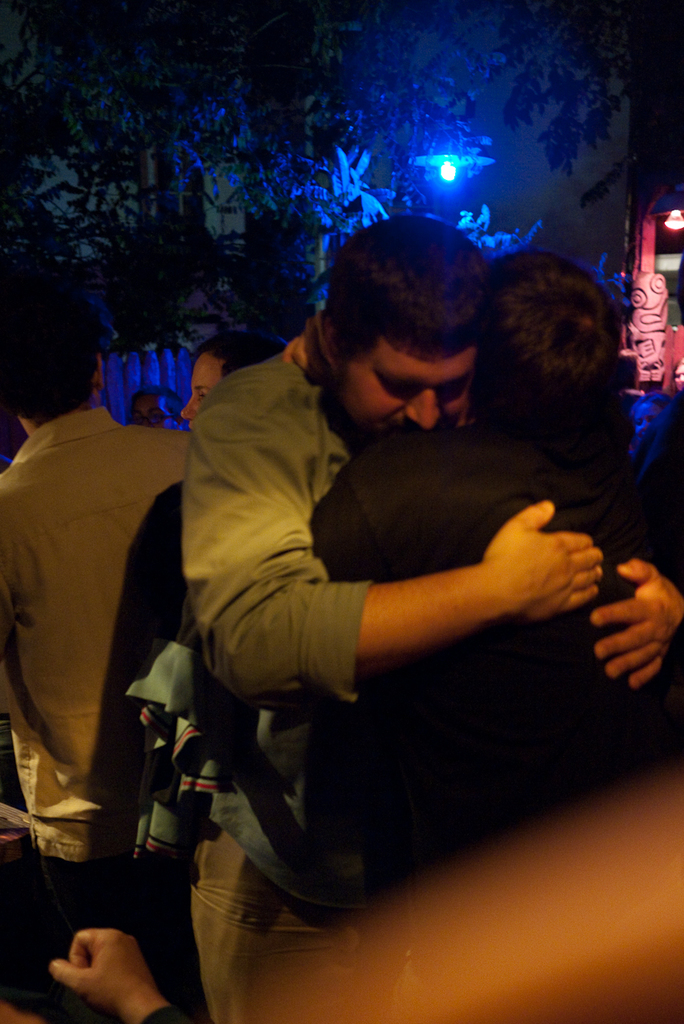Human_hand: (30, 916, 206, 1021), (485, 500, 606, 626), (586, 558, 683, 691)
